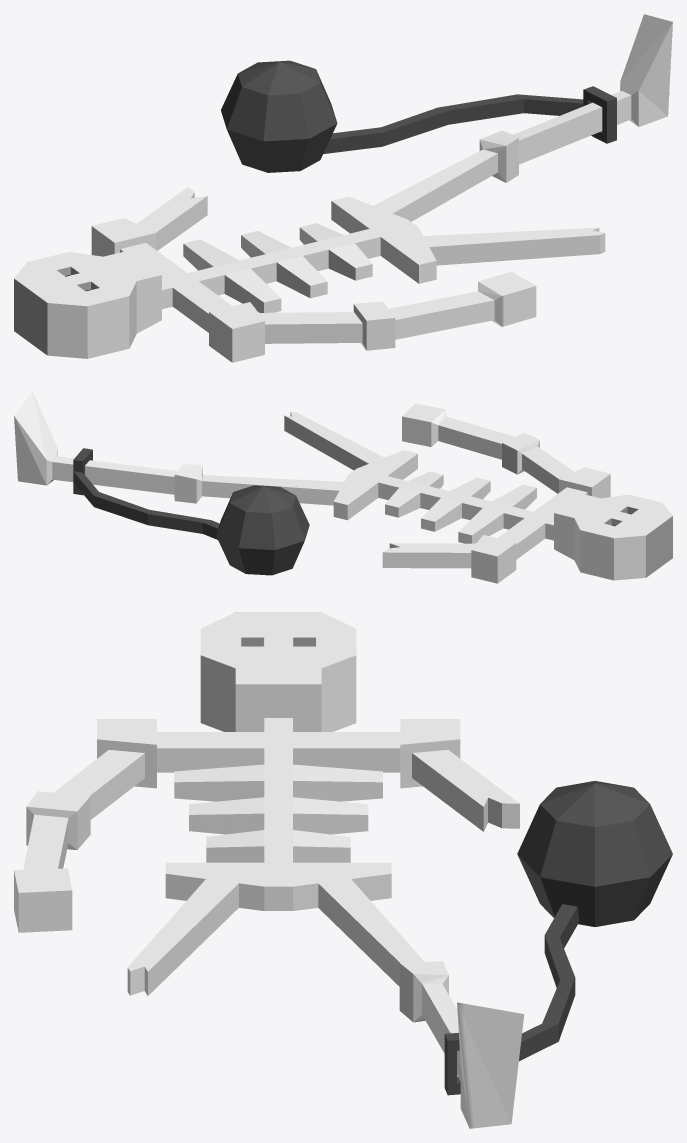
Rendered from Skeletons leg chained to a metal ball 1.fbx.
3 views of the same model, one above another, from view 1: azimuth 30°, elevation 25°; view 2: azimuth 150°, elevation 25°; view 3: azimuth 270°, elevation 25° (orthographic). The views are drawn at different scales.
Visible parts, largest first — view 1: Sphere001; view 2: Sphere001; view 3: Sphere001.
Part boxes in pixels (x1,y1,x2,y2): Sphere001: (14,14,672,362); Sphere001: (14,391,672,583); Sphere001: (14,612,672,1128).
Size of the model in its own units: 245 by 35.99 by 152.
Materials: 1 (1 with a texture image).
